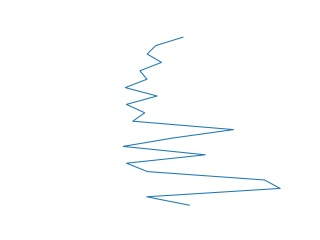crevasseRiverBedLagDeposit: (116, 34, 287, 209)
